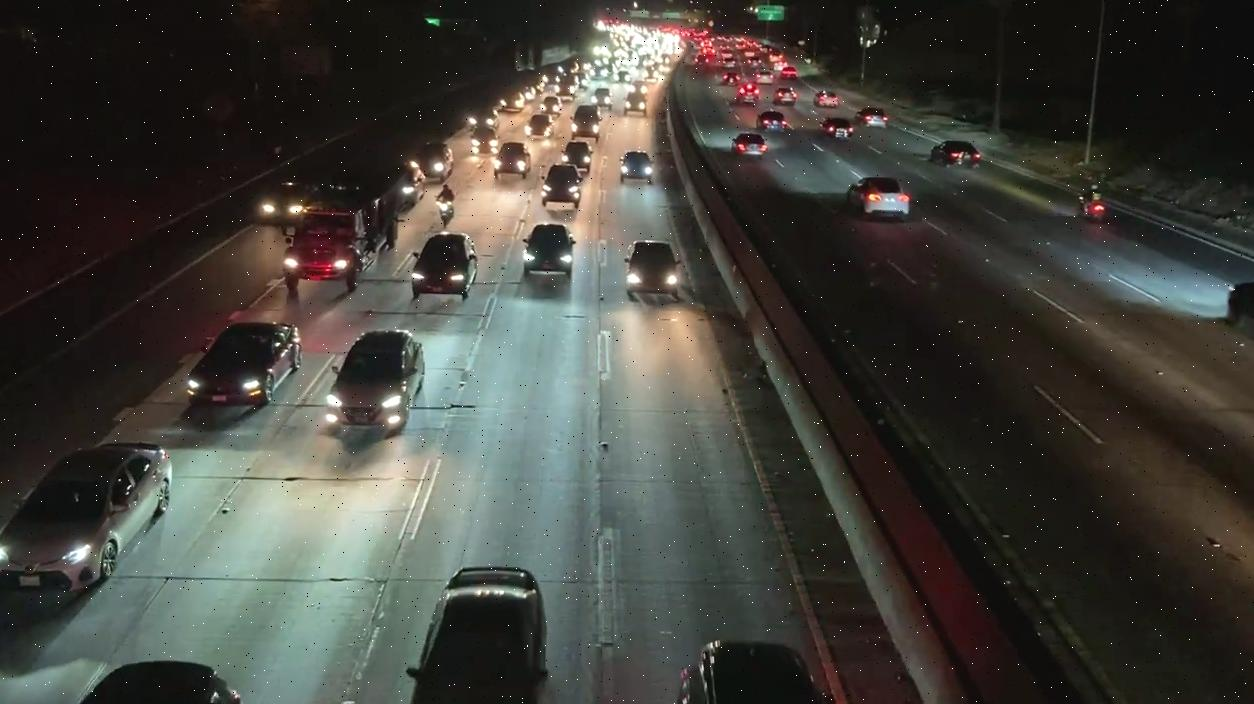bike: (1080, 184, 1104, 224)
car: (0, 438, 176, 590), (410, 567, 546, 704), (184, 322, 305, 415), (680, 637, 836, 704), (330, 331, 423, 437), (412, 230, 481, 300), (519, 225, 575, 285), (625, 238, 683, 293), (855, 179, 912, 223), (540, 164, 584, 207), (930, 139, 983, 167), (494, 142, 534, 175), (419, 142, 454, 177), (618, 152, 652, 181), (434, 184, 455, 226), (732, 132, 768, 155), (819, 117, 852, 139), (757, 111, 786, 132), (858, 108, 888, 126)
truck: (283, 158, 400, 285)
